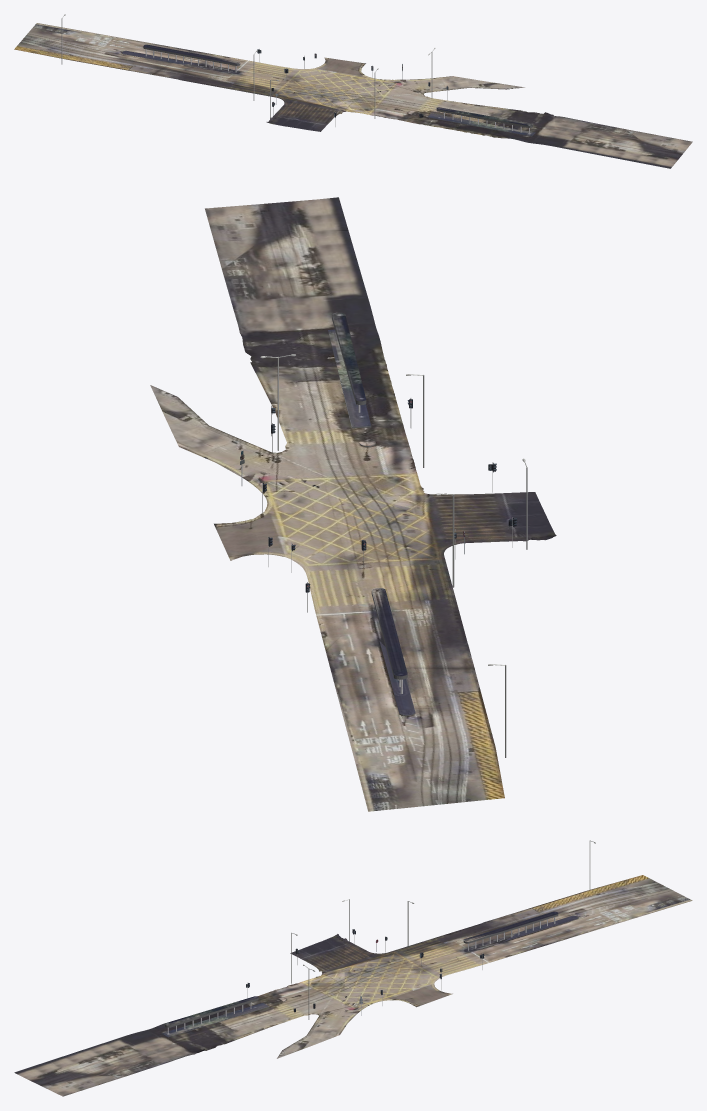
Rendered from pedder-street.glb.
3 views of the same model, one above another, from view 1: azimuth 30°, elevation 25°; view 2: azimuth 150°, elevation 25°; view 3: azimuth 270°, elevation 25° (orthographic). The views are drawn at different scales.
Visible parts, largest first — view 1: pedder-street; view 2: pedder-street; view 3: pedder-street.
Part boxes in pixels (x1,y1,x2,y2): pedder-street: [14, 14, 692, 168]; pedder-street: [150, 197, 556, 811]; pedder-street: [14, 840, 692, 1096].
Size of the model in its own units: 115 by 13.62 by 148.
7 materials, 7 textured.
